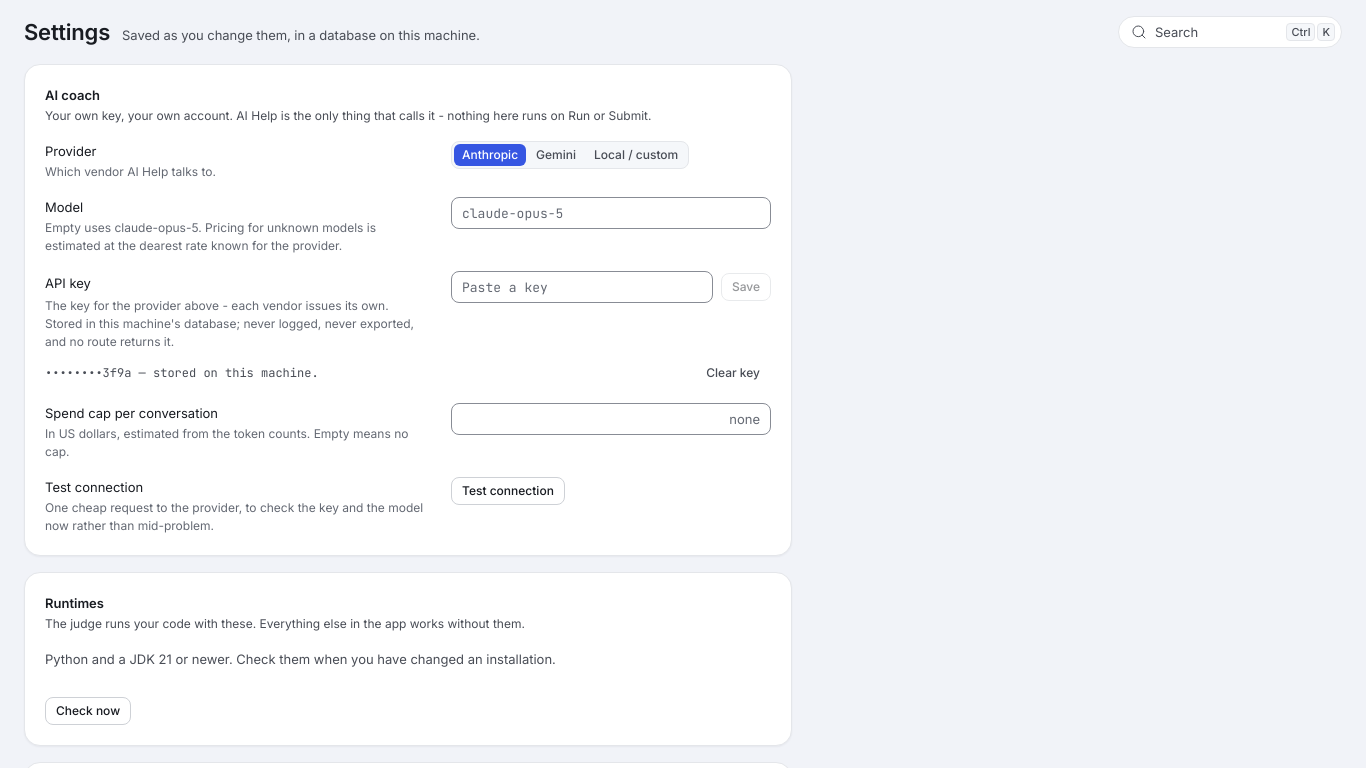
Test case: Settings, coach section › says a stored key may belong to the provider it was switched from
Click the button "Gemini" at (556, 155), box [528,144,584,166]
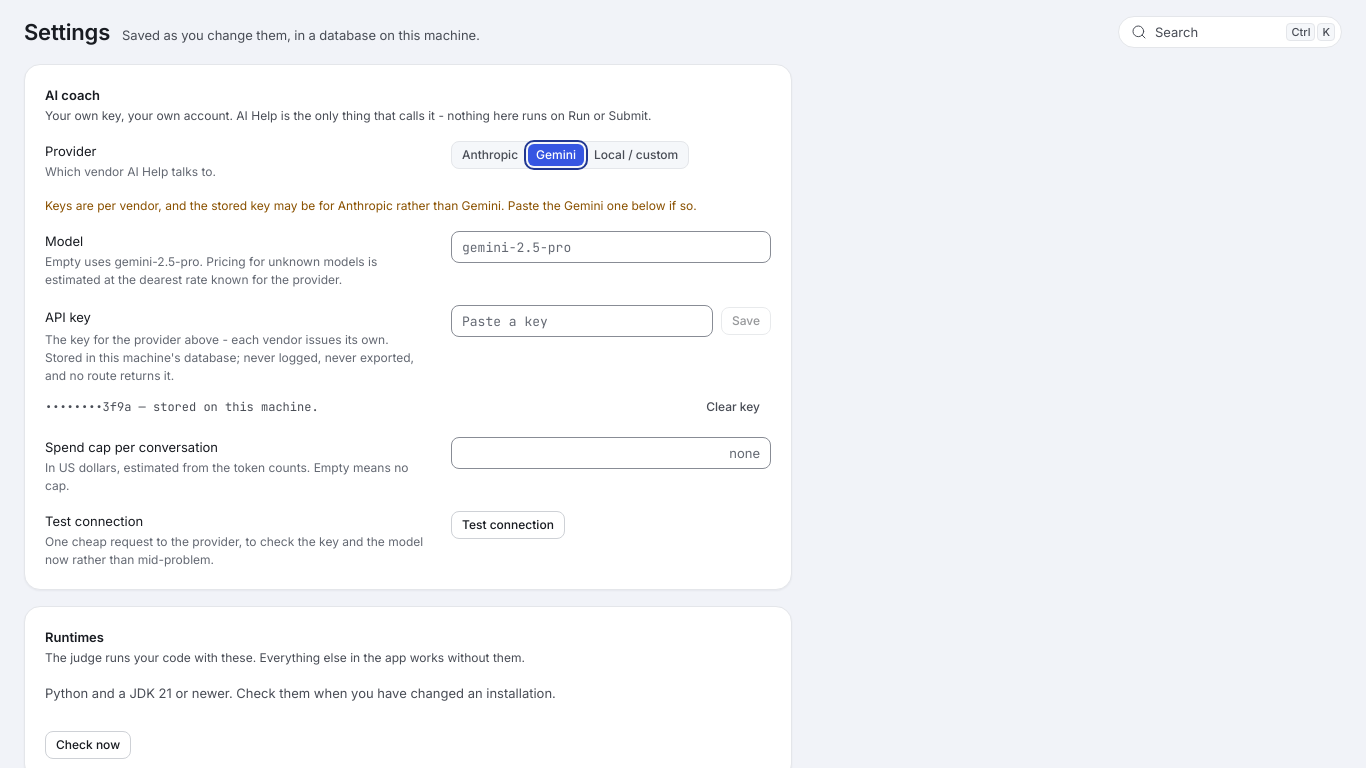
Check: the message shows "Keys are per vendor, and the stored key may be for Anthropic rather than Gemini", box [45,197,771,215]
